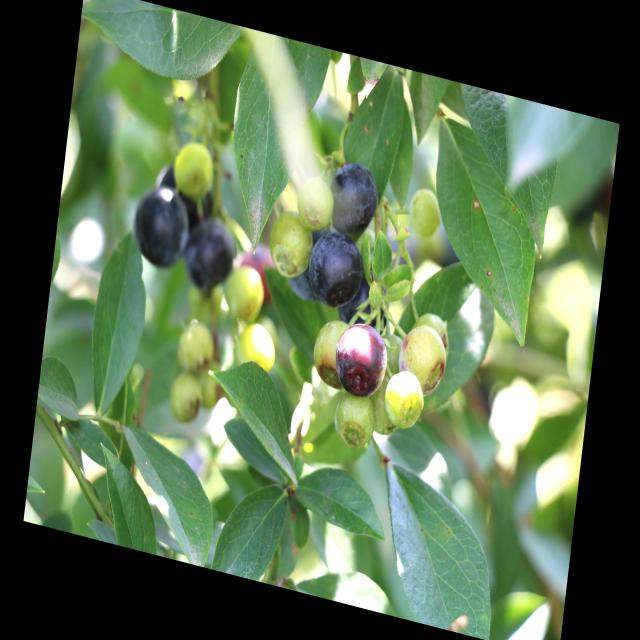blueberry: (126, 180, 192, 274), (304, 216, 367, 312), (179, 212, 243, 298), (326, 156, 385, 241), (337, 276, 398, 344), (280, 260, 324, 312)
blueberry-halfripe: (334, 314, 392, 399)
blueberry-unripe: (398, 321, 450, 397), (309, 311, 355, 393), (265, 209, 315, 283), (380, 366, 430, 439), (222, 260, 268, 326), (171, 138, 217, 197), (336, 388, 376, 450), (176, 318, 218, 374), (167, 367, 205, 425), (408, 186, 445, 243), (296, 177, 334, 230), (239, 318, 274, 375)
